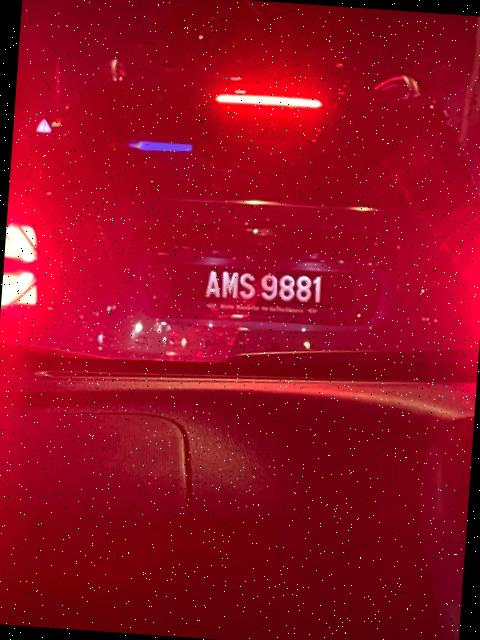License_Plate: (177, 264, 347, 314)
car: (2, 42, 480, 380)
